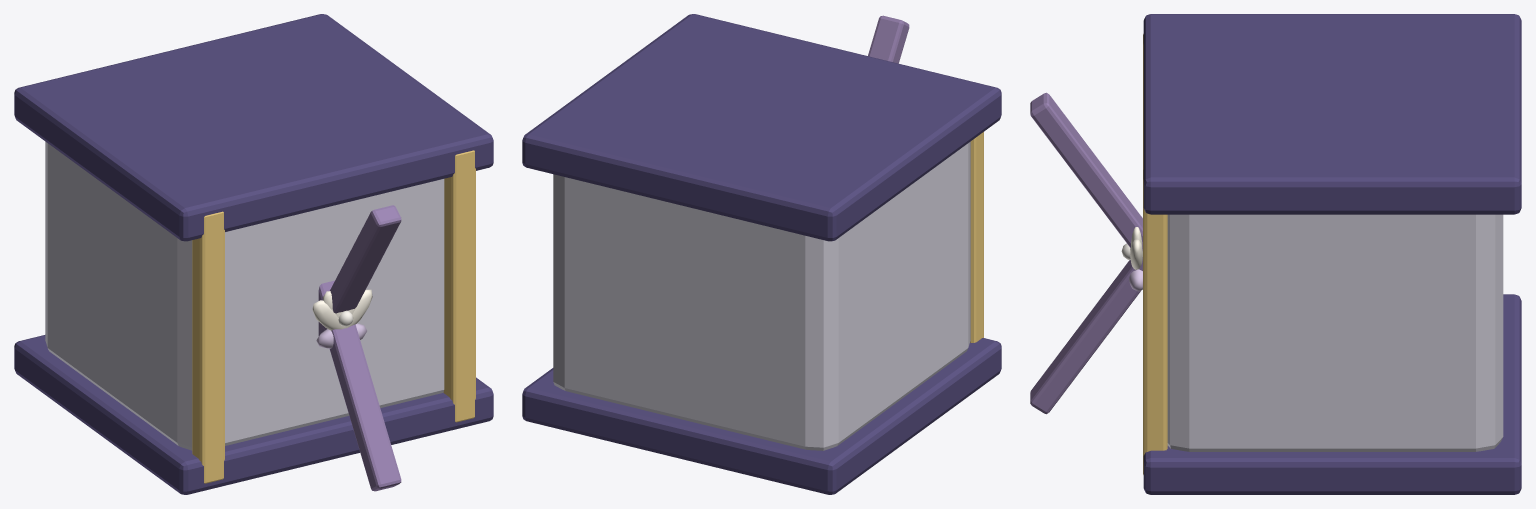
File: pearl_storage_crate.glb
3 renders of one model, left to right at view 1: azimuth 30°, elevation 25°; view 2: azimuth 150°, elevation 25°; view 3: azimuth 270°, elevation 25°, orthographic. The views are drawn at different scales.
Visible parts, largest first — view 1: pearl_storage_crate.001; view 2: pearl_storage_crate.001; view 3: pearl_storage_crate.001.
Boxes of the visible parts, x1,y1,x2,y2 form: pearl_storage_crate.001: (14,14,493,494); pearl_storage_crate.001: (522,14,1001,494); pearl_storage_crate.001: (1030,14,1521,494).
Bounding box in the file's own units: 3.55 × 3.1 × 4.35.
